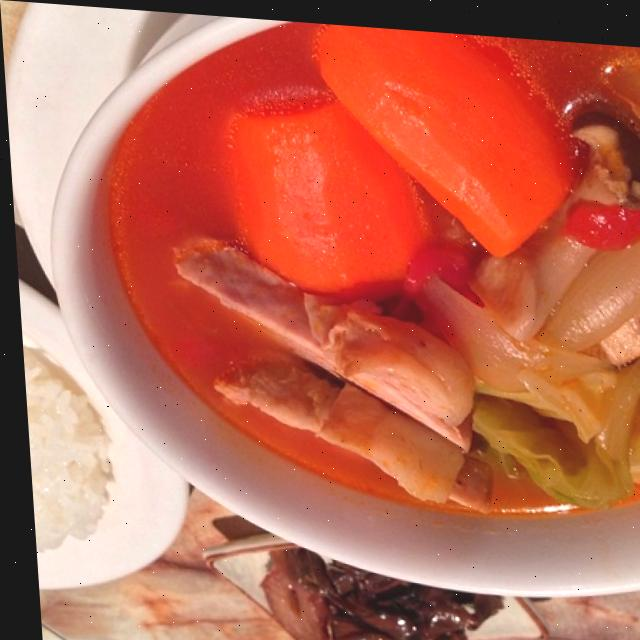汤锅炖物: (56, 4, 640, 618)
